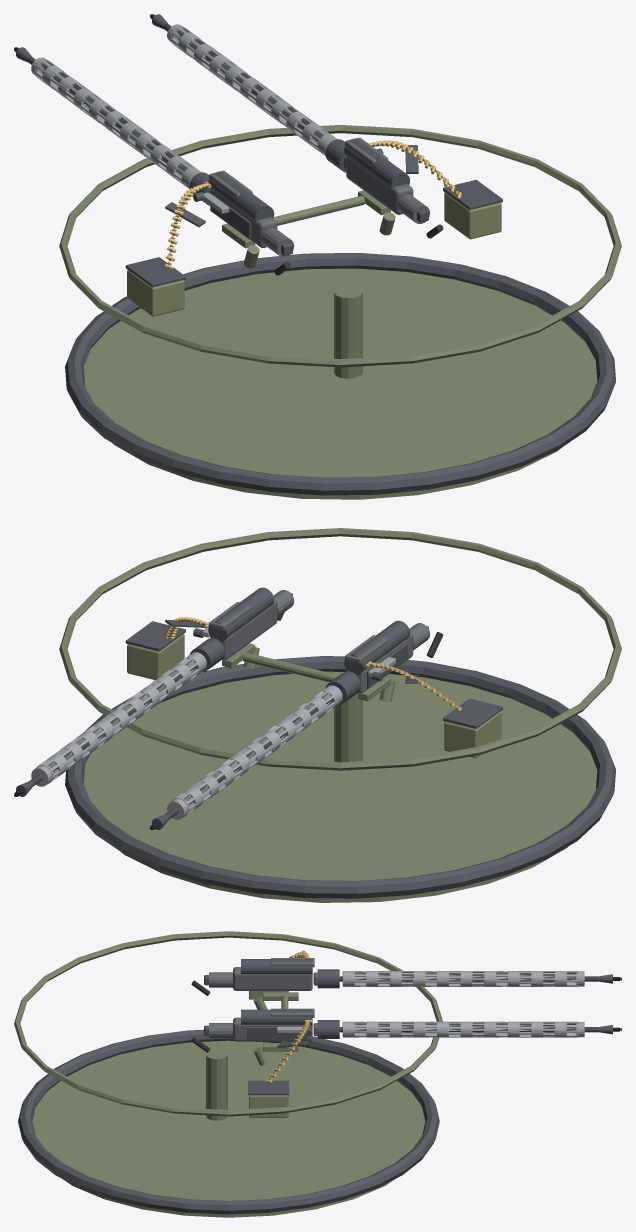
Rendered from turret_interior.glb.
3 renders of one model, top to bottom at view 1: azimuth 30°, elevation 25°; view 2: azimuth 150°, elevation 25°; view 3: azimuth 270°, elevation 25°, orthographic. The views are drawn at different scales.
Parts seen in each view (by area): view 1: Floor, RingGear, DomeRingLo, Jacket1, Jacket-1, Pedestal, Ammo-1, Ammo1, Receiver1, RecTop1, RecTop-1, AmmoLid-1 (+2 smaller); view 2: Floor, RingGear, DomeRingLo, Jacket-1, Jacket1, Pedestal, Ammo1, Ammo-1, RecTop1, RecTop-1, Receiver1, AmmoLid-1 (+4 smaller); view 3: Floor, RingGear, DomeRingLo, Jacket1, Jacket-1, Receiver-1, Pedestal, RecTop1, RecTop-1, Ammo1, AmmoLid1, Receiver1 (+5 smaller).
Boxes of the visible parts, <box> form: Floor: <box>83,268,597,499</box>; RingGear: <box>65,253,615,495</box>; DomeRingLo: <box>59,125,621,367</box>; Jacket1: <box>170,26,337,155</box>; Jacket-1: <box>34,60,201,188</box>; Pedestal: <box>334,286,362,378</box>; Ammo-1: <box>127,270,184,316</box>; Ammo1: <box>444,192,501,239</box>; Receiver1: <box>346,156,413,214</box>; RecTop1: <box>344,138,409,189</box>; RecTop-1: <box>208,171,274,222</box>; AmmoLid-1: <box>125,257,185,287</box>; Floor: <box>83,671,597,902</box>; RingGear: <box>65,656,615,898</box>; DomeRingLo: <box>59,528,621,770</box>; Jacket-1: <box>172,685,342,816</box>; Jacket1: <box>36,652,206,783</box>; Pedestal: <box>334,693,362,770</box>; Ammo1: <box>127,634,184,679</box>; Ammo-1: <box>444,711,501,758</box>; RecTop1: <box>208,587,274,641</box>; RecTop-1: <box>344,620,409,675</box>; Receiver1: <box>210,599,277,659</box>; AmmoLid-1: <box>443,698,502,728</box>; Floor: <box>32,1040,425,1217</box>; RingGear: <box>18,1029,439,1214</box>; DomeRingLo: <box>14,931,442,1116</box>; Jacket1: <box>342,1021,578,1037</box>; Jacket-1: <box>342,971,578,986</box>; Receiver-1: <box>233,967,312,990</box>; Pedestal: <box>206,1050,227,1120</box>; RecTop1: <box>241,1009,312,1025</box>; RecTop-1: <box>241,959,312,974</box>; Ammo1: <box>249,1095,288,1117</box>; AmmoLid1: <box>248,1080,289,1095</box>; Receiver1: <box>233,1017,312,1041</box>.
Size of the model in its own units: 2.15 by 0.819 by 3.04.
